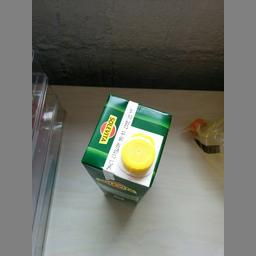juice: (80, 90, 174, 204)
